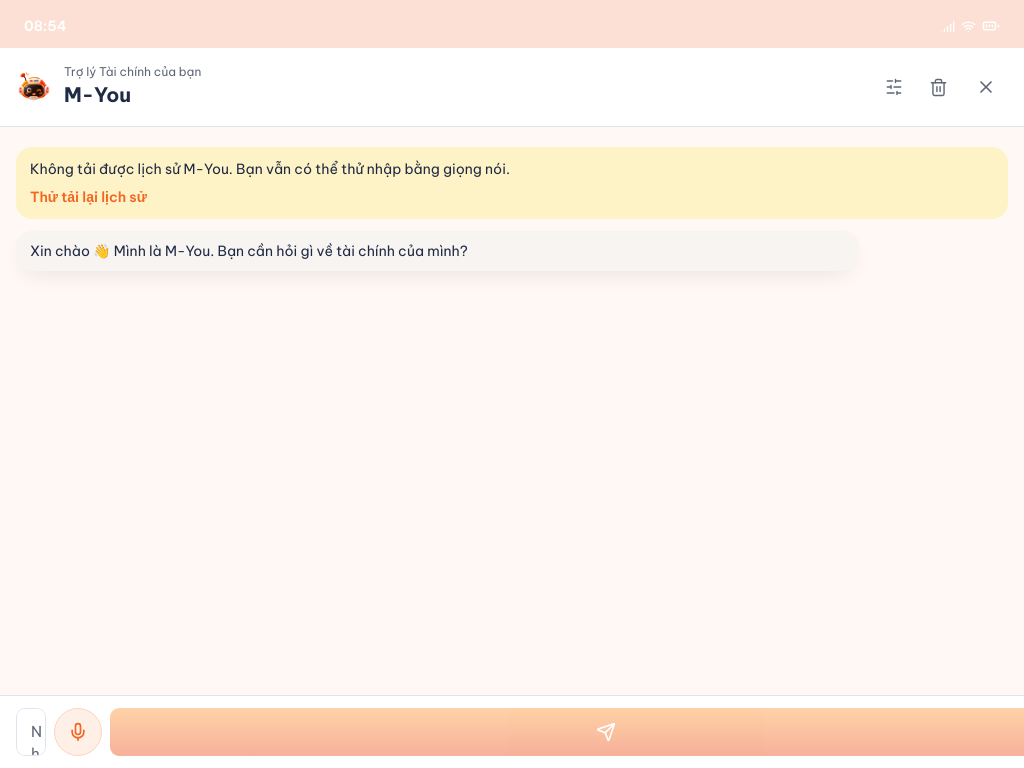
it: MYourWidget › keeps the composer and voice input available when history fails to load
The width and height of the screenshot is (1024, 768).
expect the message is shown: met, box left=16, top=147, right=1008, bottom=219
expect the text "Không tải được lịch sử M-You. Bạn vẫn có thể thử nhập bằng giọng nói." is shown: met, box left=30, top=160, right=510, bottom=178
Step 1. Click the button "Thử tải lại lịch sử" → coordinates (88, 197), box left=30, top=187, right=147, bottom=207
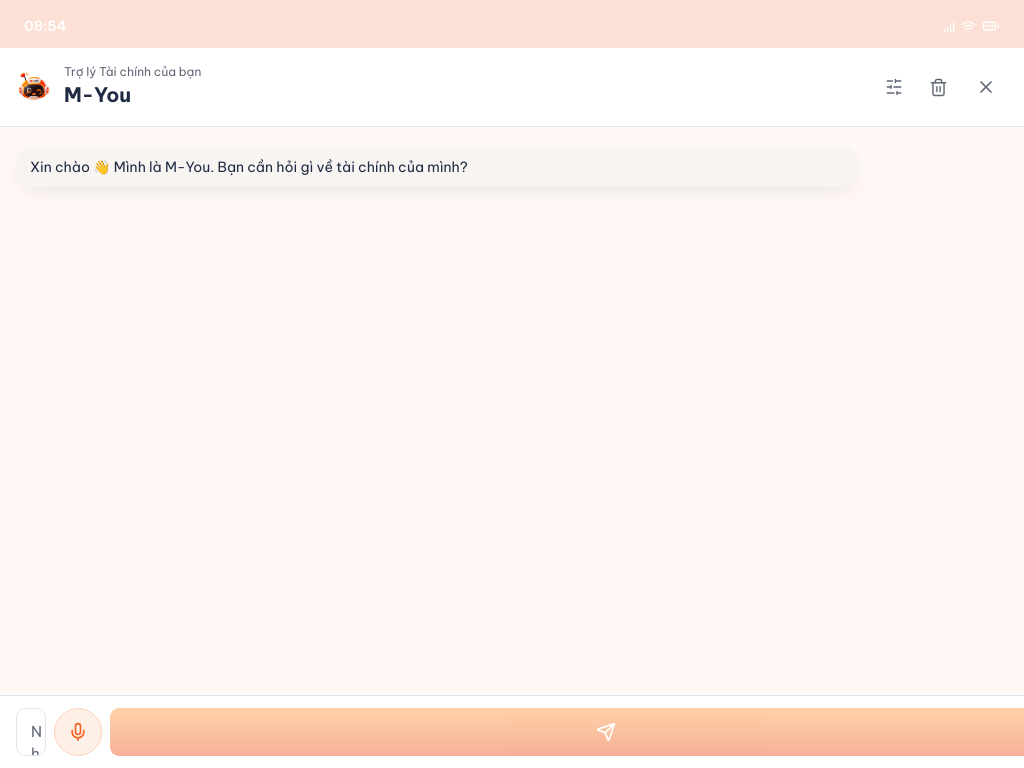
expect the message is gone: met
